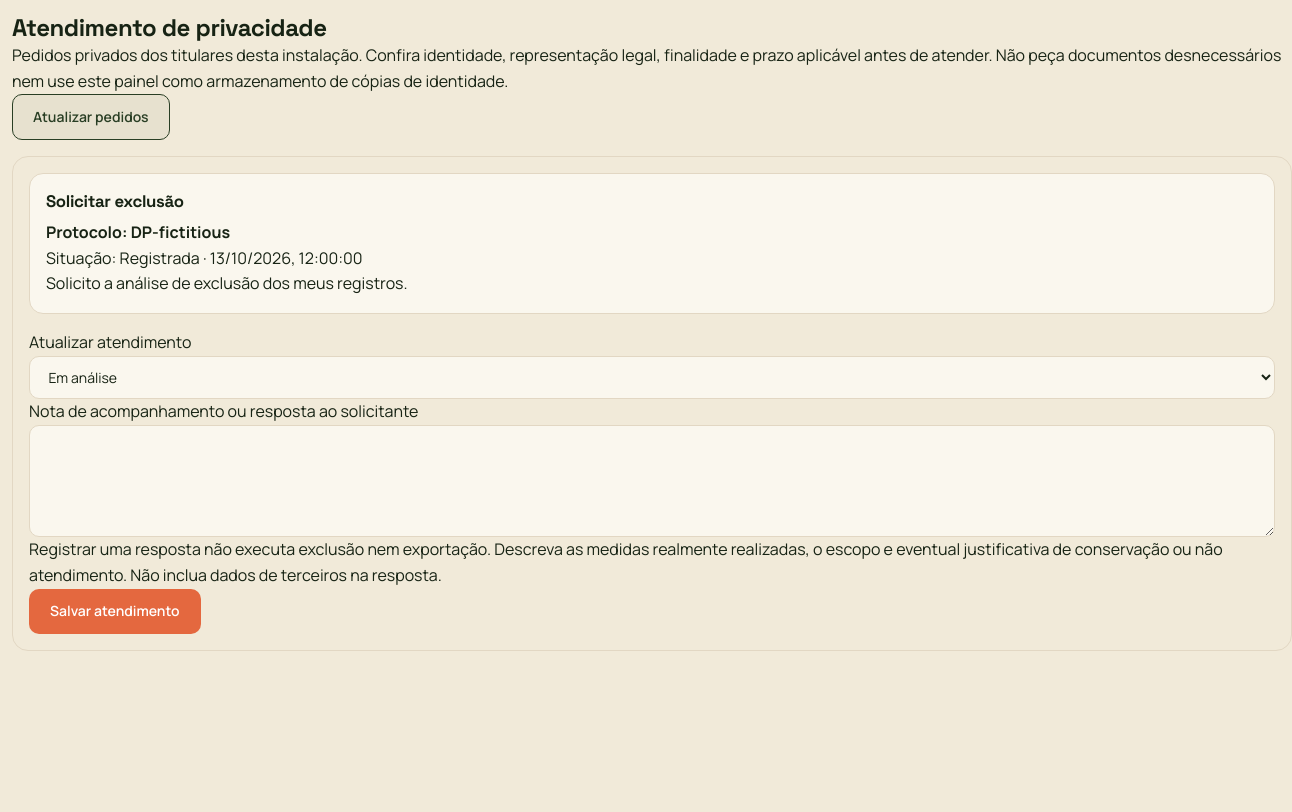
Test: solicitações de privacidade acessíveis e verificáveis › confirma resposta somente depois de a atualização ser reconhecida
The width and height of the screenshot is (1292, 812).
Click the button "Salvar atendimento" at (115, 611), box [29,588,200,634]
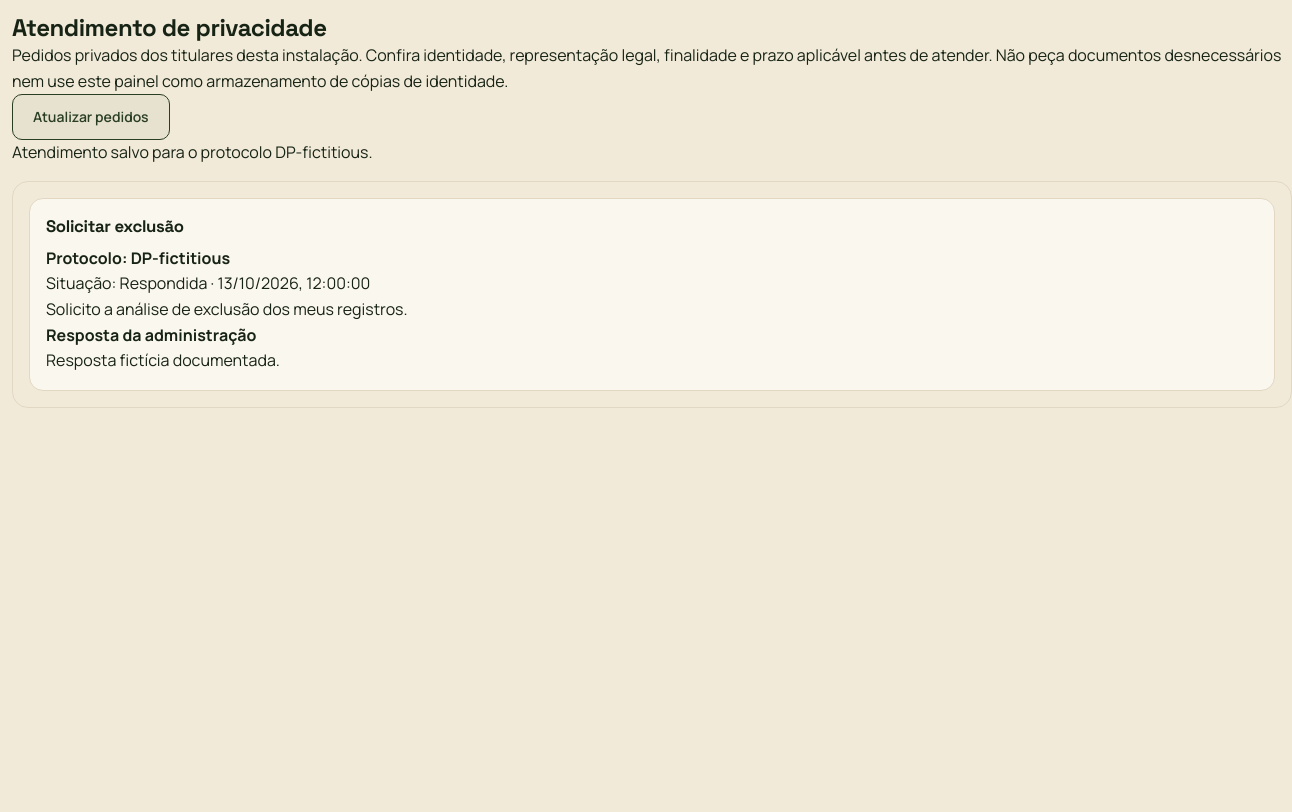
Now the message shows "Atendimento salvo", box [12,140,372,162]
